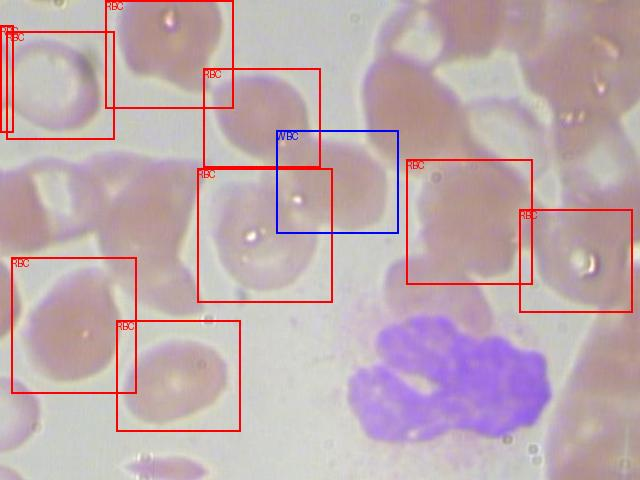RBC: (197, 168, 332, 302), (11, 257, 136, 393), (406, 159, 532, 284), (105, 0, 233, 108), (116, 320, 240, 431), (6, 31, 114, 139), (519, 209, 632, 312), (203, 68, 320, 167), (0, 25, 13, 132)
WBC: (276, 130, 398, 233)
